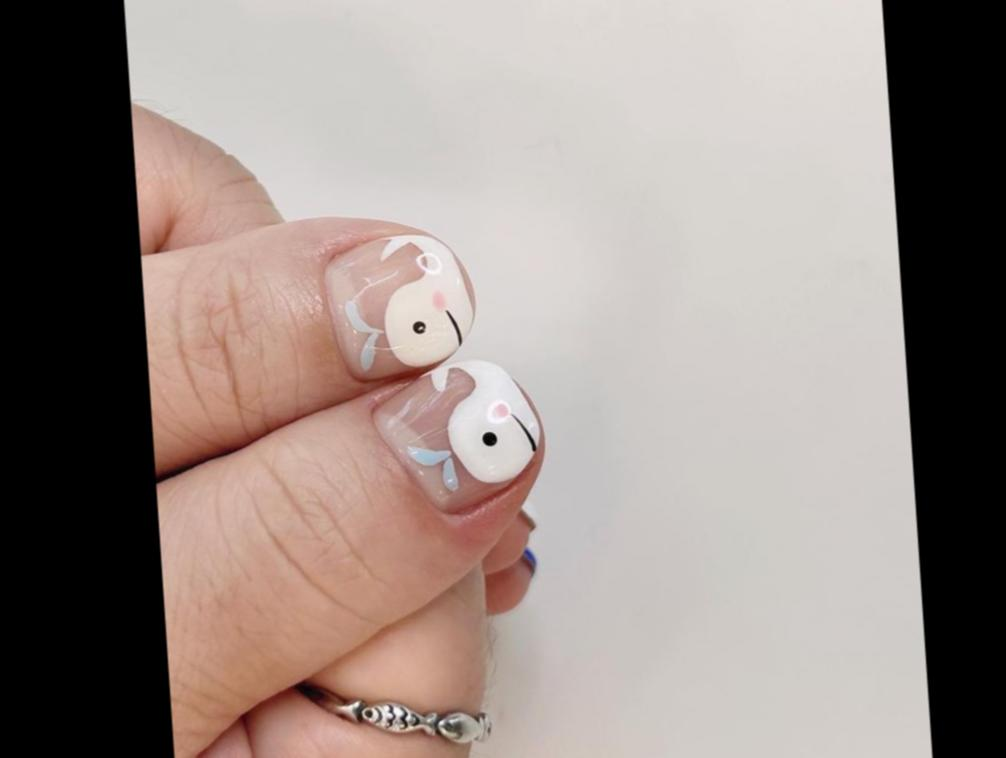nail: (366, 359, 548, 515), (319, 233, 480, 382)
